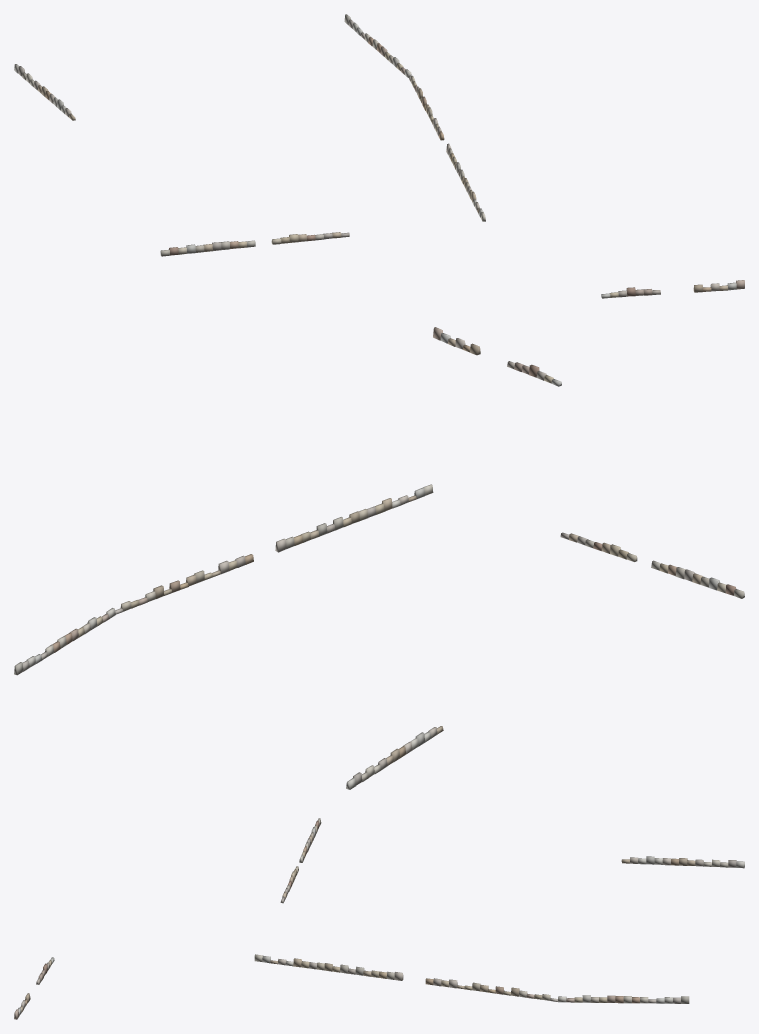
The model's file is farm_16_24_far.glb.
3 views of the same model, one above another, from view 1: azimuth 30°, elevation 25°; view 2: azimuth 150°, elevation 25°; view 3: azimuth 270°, elevation 25° (orthographic). The views are drawn at different scales.
Parts seen in each view (by area): view 1: geometry_0; view 2: geometry_0; view 3: geometry_0.
Part boxes in pixels (x1,y1,x2,y2): geometry_0: (14, 14, 744, 298); geometry_0: (14, 327, 744, 789); geometry_0: (14, 818, 744, 1019).
Size of the model in its own units: 85.38 by 3.61 by 142.
